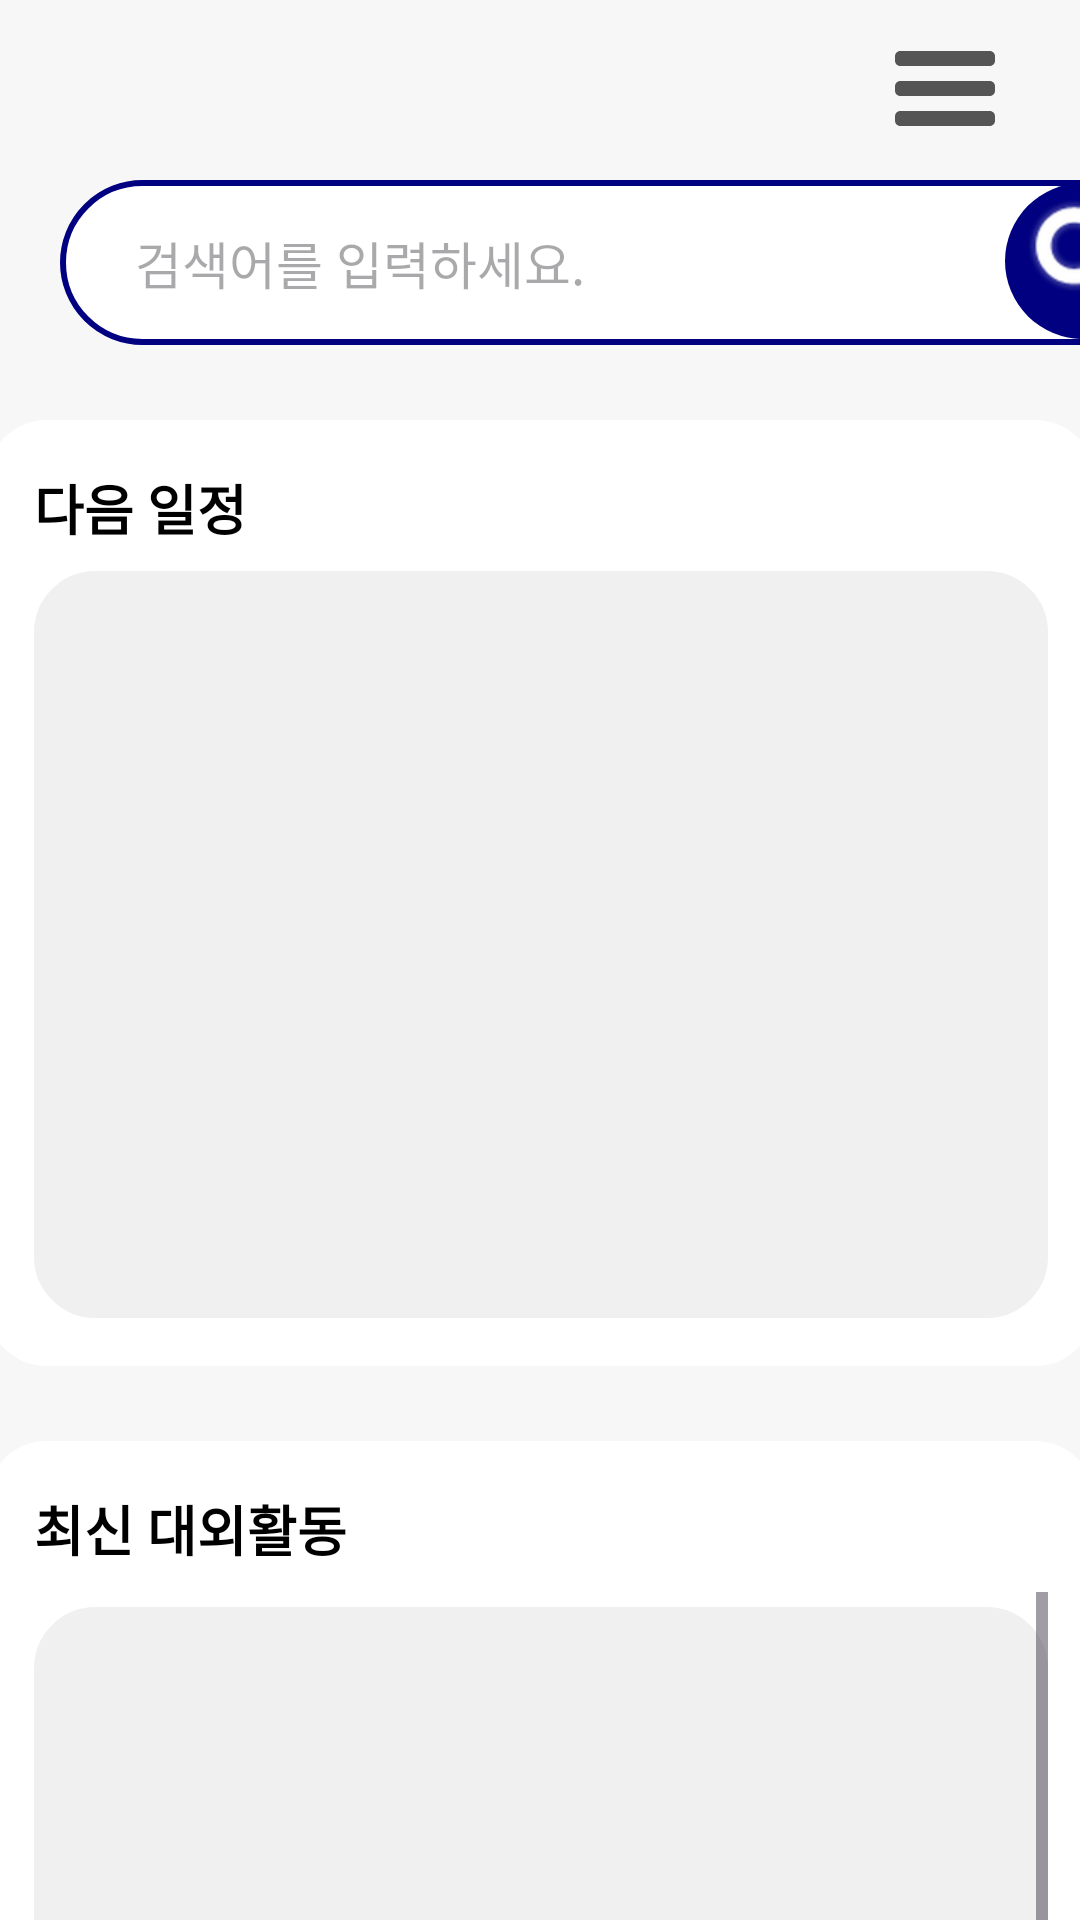

Icons on this 1080×1920 Android screen, each with the point to tap as [x,y]:
메뉴: [945,88]
